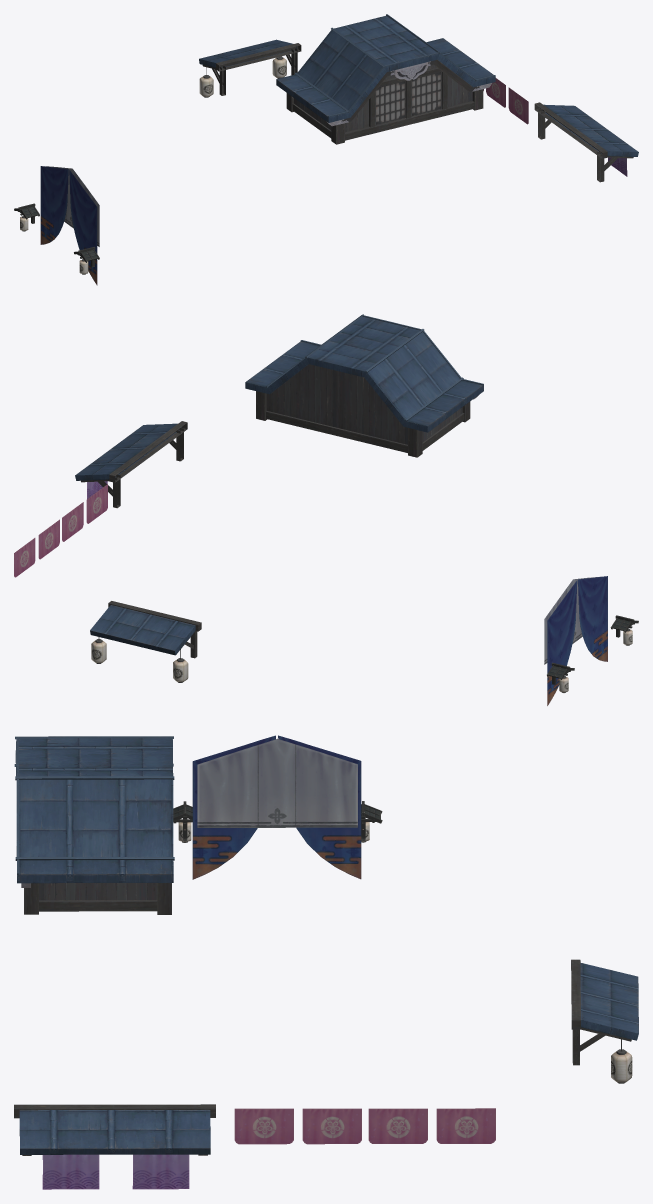
File: Homeworld_Exterior_Dq_Build_House_10_Lod0.fbx
3 renders of one model, top to bottom at view 1: azimuth 30°, elevation 25°; view 2: azimuth 150°, elevation 25°; view 3: azimuth 270°, elevation 25°, orthographic. The views are drawn at different scales.
Visible parts, largest first — view 1: Area_Dq_Build_MS_Comp_CityHouse_02_Vo, Area_Dq_Build_MS_Comp_CityHouse_05_Vo (×2), Area_Dq_Prop_MS_Bulian_02_Vo, Area_Dq_Light_MS_Woodenlamp_05_Vo (×2), Area_Dq_Prop_MS_Bulian_04_Vo; view 2: Area_Dq_Build_MS_Comp_CityHouse_02_Vo, Area_Dq_Build_MS_Comp_CityHouse_05_Vo (×2), Area_Dq_Prop_MS_Bulian_02_Vo, Area_Dq_Prop_MS_Bulian_04_Vo (×4); view 3: Area_Dq_Build_MS_Comp_CityHouse_02_Vo, Area_Dq_Prop_MS_Bulian_02_Vo, Area_Dq_Build_MS_Comp_CityHouse_05_Vo (×2), Area_Dq_Prop_MS_Bulian_04_Vo (×4), Area_Dq_Prop_MS_Bulian_05_Vo (×2), Area_Dq_Light_MS_Lamp_05_Vo.
Boxes of the visible parts, x1=… form: Area_Dq_Build_MS_Comp_CityHouse_02_Vo: x1=276, y1=14, x2=495, y2=144; Area_Dq_Build_MS_Comp_CityHouse_05_Vo (×2): x1=199, y1=39, x2=638, y2=182; Area_Dq_Prop_MS_Bulian_02_Vo: x1=40, y1=166, x2=99, y2=285; Area_Dq_Light_MS_Woodenlamp_05_Vo (×2): x1=14, y1=203, x2=99, y2=274; Area_Dq_Prop_MS_Bulian_04_Vo: x1=508, y1=87, x2=528, y2=124; Area_Dq_Build_MS_Comp_CityHouse_02_Vo: x1=245, y1=314, x2=483, y2=457; Area_Dq_Build_MS_Comp_CityHouse_05_Vo (×2): x1=75, y1=421, x2=201, y2=658; Area_Dq_Prop_MS_Bulian_02_Vo: x1=544, y1=576, x2=607, y2=705; Area_Dq_Prop_MS_Bulian_04_Vo (×4): x1=14, y1=484, x2=107, y2=577; Area_Dq_Build_MS_Comp_CityHouse_02_Vo: x1=14, y1=736, x2=174, y2=914; Area_Dq_Prop_MS_Bulian_02_Vo: x1=192, y1=735, x2=361, y2=879; Area_Dq_Build_MS_Comp_CityHouse_05_Vo (×2): x1=14, y1=959, x2=638, y2=1155; Area_Dq_Prop_MS_Bulian_04_Vo (×4): x1=234, y1=1108, x2=495, y2=1144; Area_Dq_Prop_MS_Bulian_05_Vo (×2): x1=42, y1=1154, x2=189, y2=1189; Area_Dq_Light_MS_Lamp_05_Vo: x1=611, y1=1039, x2=632, y2=1083.
Size of what is drawn, in the model's own units: 21.84 by 8.54 by 15.53.
